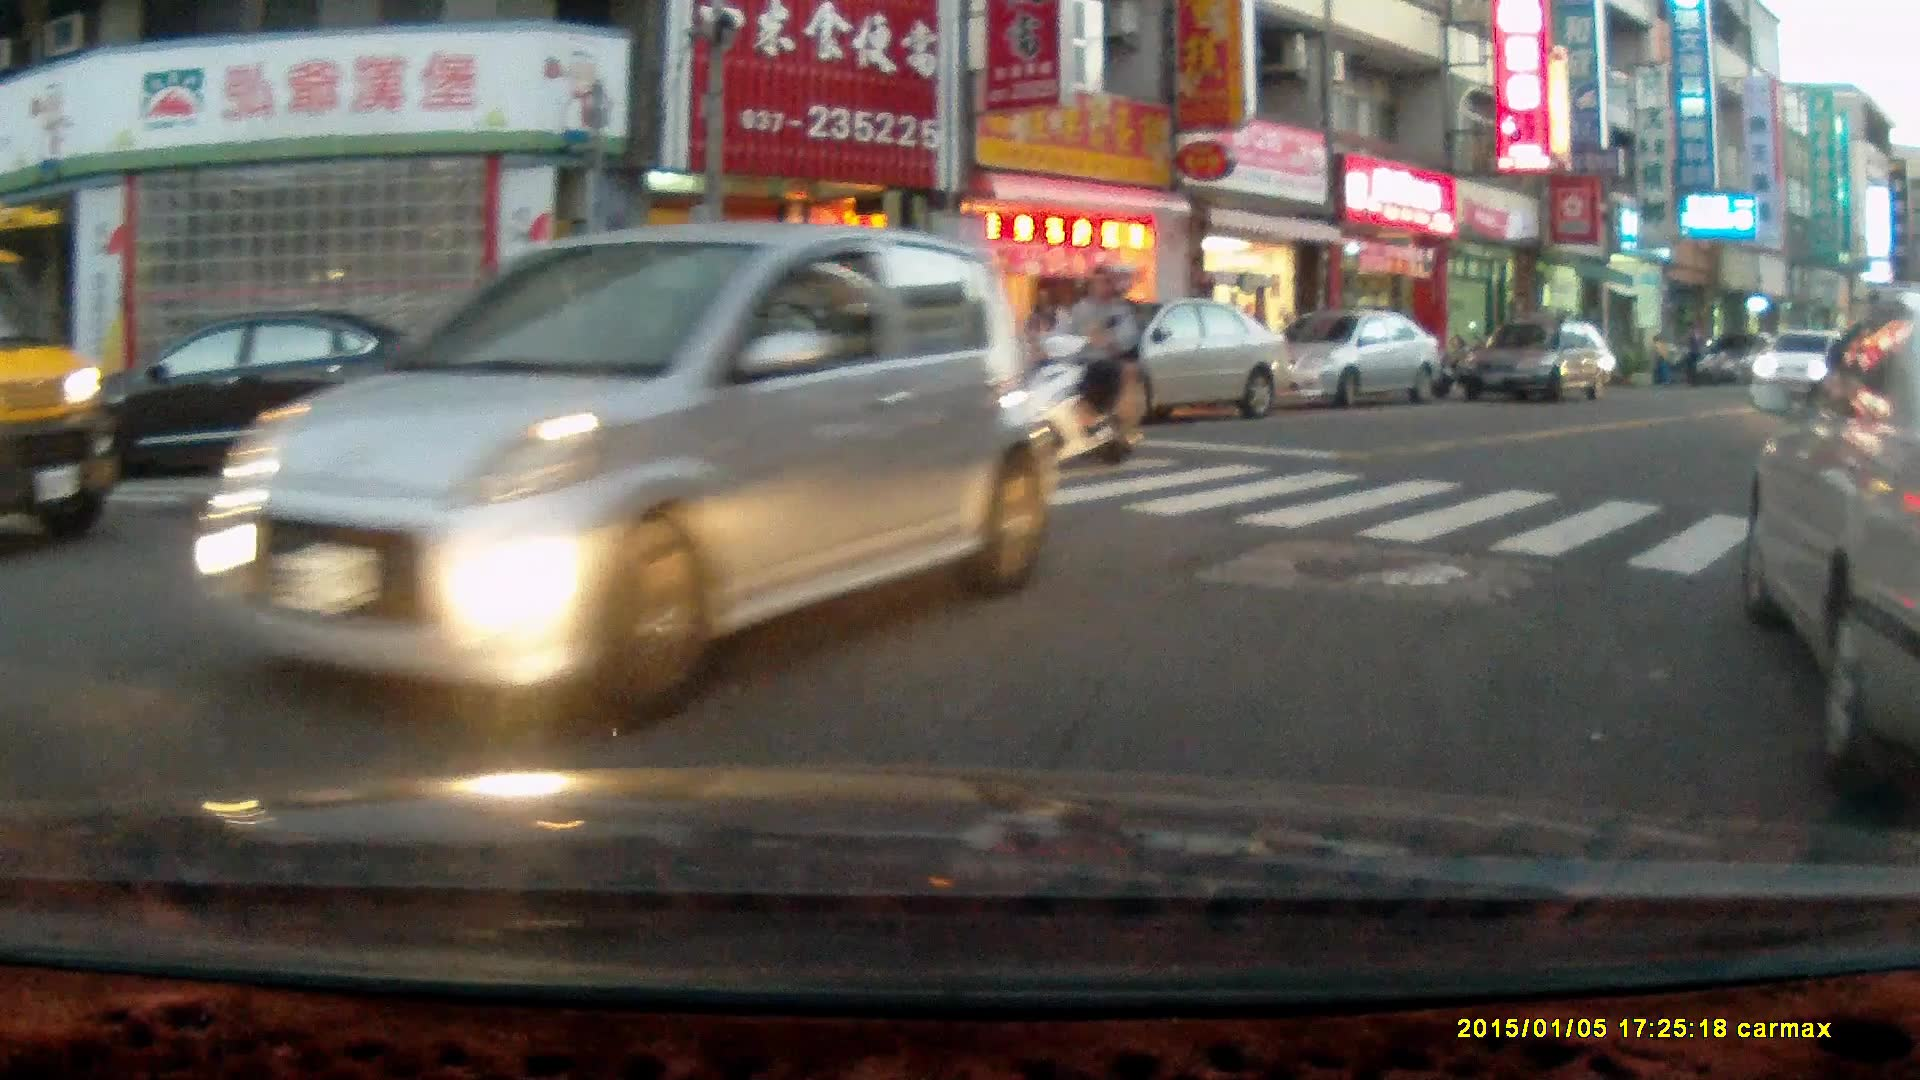pedestrian: (1022, 279, 1070, 410)
rider: (990, 257, 1145, 465)
vehicle: (179, 220, 1029, 722), (1737, 299, 1920, 780), (86, 307, 466, 475), (1064, 296, 1299, 420), (1261, 307, 1448, 402), (1455, 317, 1623, 406)
